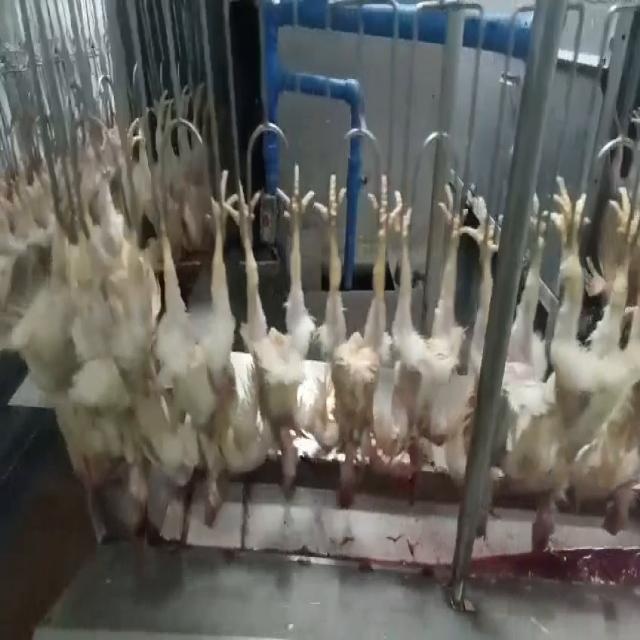chicken: (506, 158, 601, 557), (158, 171, 238, 528), (316, 167, 397, 508), (241, 158, 314, 494), (388, 173, 464, 478), (581, 154, 639, 538), (91, 185, 156, 513), (449, 183, 499, 484)
